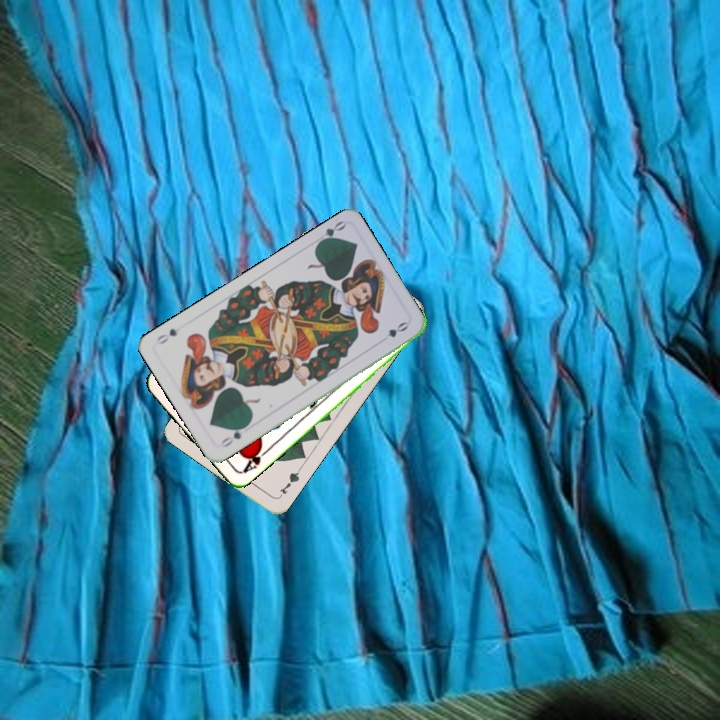G7: (274, 465, 302, 500)
GO: (313, 217, 348, 248), (216, 421, 251, 450)
HA: (238, 441, 272, 476)
